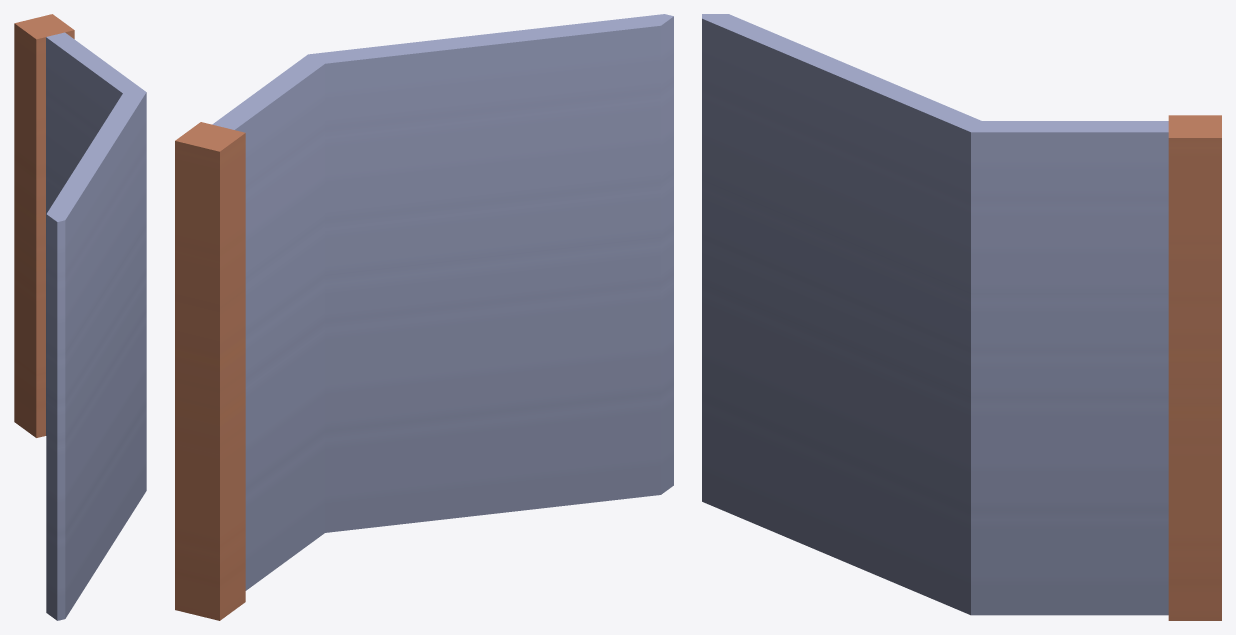
File: wall-corner-diagonal-half.fbx
The picture shows the model from 3 angles, left to right: view 1: azimuth 30°, elevation 25°; view 2: azimuth 150°, elevation 25°; view 3: azimuth 270°, elevation 25°; orthographic projection. The views are drawn at different scales.
Parts seen in each view (by area): view 1: wall-corner-diagonal-half; view 2: wall-corner-diagonal-half; view 3: wall-corner-diagonal-half.
Part boxes in pixels (bbox=[...]): wall-corner-diagonal-half: bbox=[14, 14, 146, 620]; wall-corner-diagonal-half: bbox=[175, 14, 673, 620]; wall-corner-diagonal-half: bbox=[702, 14, 1221, 620].
Size of the model in its own units: 55 by 100 by 97.5.
1 material, 1 textured.
